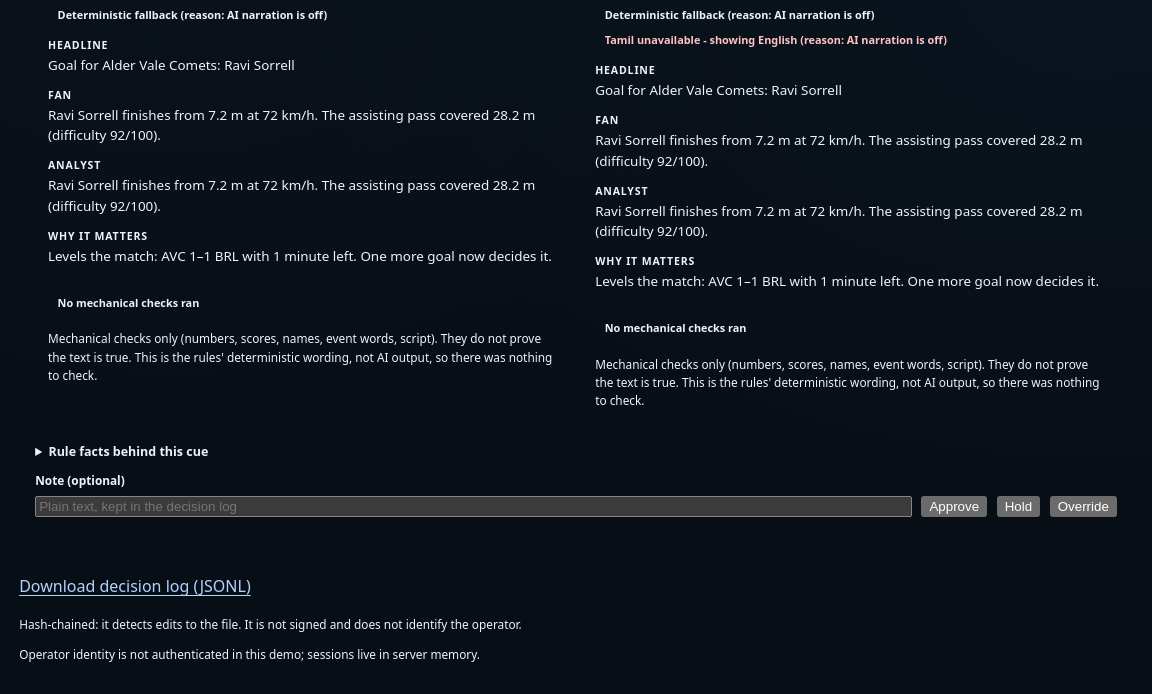
Test: OperatorDesk decisions › holds without a note when none was typed
(page scrolled)
Click the button "Hold" at {"x": 1018, "y": 506}, box [997,496,1040,517]
(page scrolled)
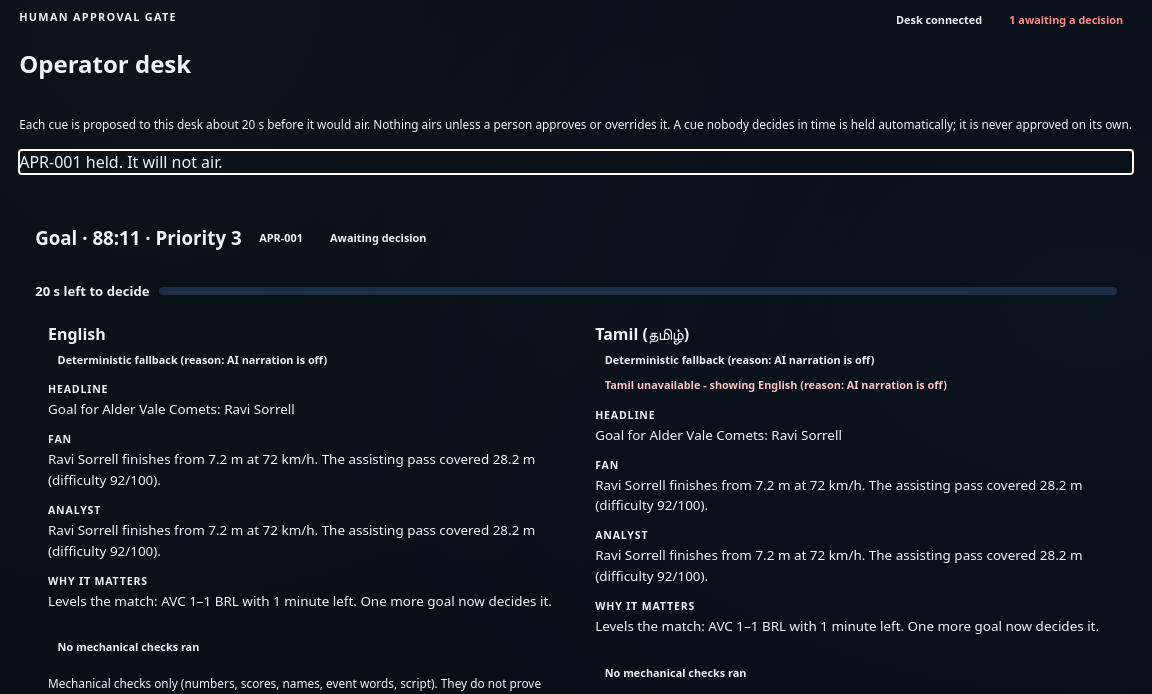
Expected: the message with test id "desk-outcome" reads "APR-001 held. It will not air.", [19,151,223,173]
